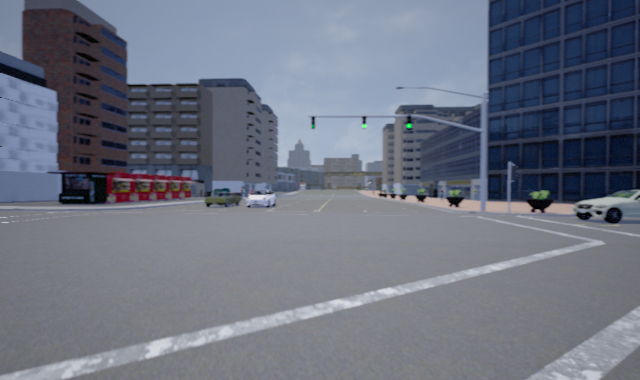traffic_light: (404, 114, 412, 130), (361, 116, 367, 130), (311, 116, 315, 130)
vehicle: (572, 189, 639, 224), (205, 188, 241, 208), (244, 190, 278, 207)
